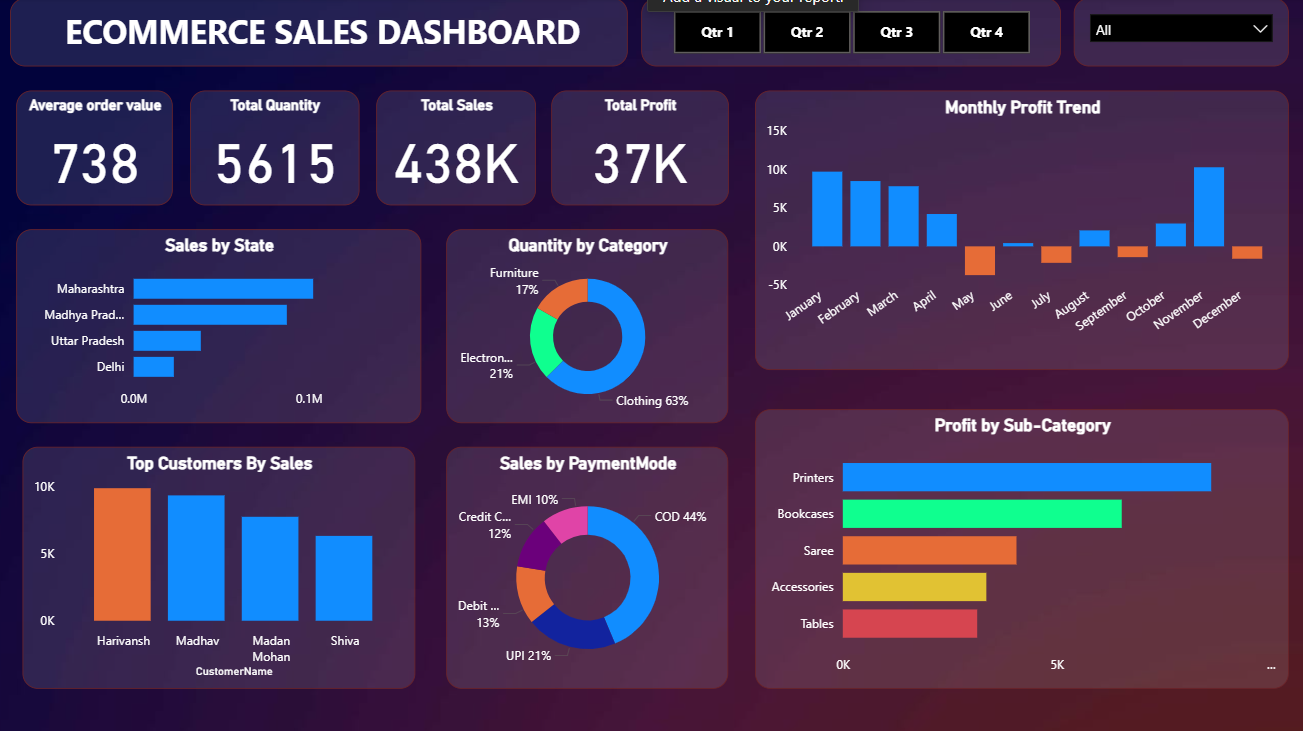

The dashboard page shown, as its layout file describes it:
{"tool":"powerbi","page":{"name":"Page 1","canvas":[1280,720],"ordinal":0},"visuals":[{"type":"textbox","box":[9.6,0,606.5,67.2],"z":0},{"type":"clusteredColumnChart","title":"Monthly Profit Trend","fields":{"Category":["Orders.Order Date.Variation.Date Hierarchy.Month"],"Y":["Sum(Details.Profit)"]},"box":[741,90.6,524.2,274.4],"z":1000},{"type":"barChart","title":" Profit by Sub-Category","fields":{"Category":["Details.Sub-Category"],"Y":["Sum(Details.Profit)"]},"box":[741,403.4,524.2,274.4],"z":2000},{"type":"donutChart","title":"Quantity by Category","fields":{"Category":["Details.Category"],"Y":["Sum(Details.Quantity)"]},"box":[437.7,226.4,277.2,190.7],"z":3000},{"type":"donutChart","title":"Sales  by PaymentMode","fields":{"Category":["Details.PaymentMode","Details.Category"],"Y":["Sum(Details.Quantity)"]},"box":[437.7,440.5,277.2,237.4],"z":4000},{"type":"card","title":"Total Sales","fields":{"Values":["Sum(Details.Amount)"]},"box":[369.3,90.8,157.1,112.9],"z":5000},{"type":"card","title":"Average order value","fields":{"Values":["Sum(Details.AOV)"]},"box":[16.5,90.6,153.7,112.5],"z":6000},{"type":"card","title":"Total Profit","fields":{"Values":["Sum(Details.Profit)"]},"box":[540.7,90.6,174.3,112.5],"z":7000},{"type":"card","title":"Total Quantity","fields":{"Values":["Sum(Details.Quantity)"]},"box":[186.6,90.6,166,112.5],"z":8000},{"type":"barChart","title":"Sales by State","fields":{"Category":["Orders.State"],"Y":["Sum(Details.Amount)"]},"box":[16.5,226.4,397.9,190.7],"z":9000},{"type":"columnChart","title":"Top Customers By Sales","fields":{"Category":["Orders.CustomerName"],"Y":["Sum(Details.Amount)"]},"box":[22,440.5,385.6,237.4],"z":10000},{"type":"slicer","fields":{"Values":["Orders.Order Date.Variation.Date Hierarchy.Quarter"]},"box":[629.8,0,411.7,67.2],"z":11000},{"type":"slicer","fields":{"Values":["Orders.State"]},"box":[1053.9,0,211.3,67.2],"z":11001}]}

Visuals, with their boxes on the page's 1280x720 design canvas (x1, y1, x2, y2). These are canvas units, not pixel positions in the 1303x731 screenshot, which may show the page scaled, cropped or inside an application window:
textbox: (left=10, top=0, right=616, bottom=67)
"Monthly Profit Trend" clusteredColumnChart: (left=741, top=91, right=1265, bottom=365)
" Profit by Sub-Category" barChart: (left=741, top=403, right=1265, bottom=678)
"Quantity by Category" donutChart: (left=438, top=226, right=715, bottom=417)
"Sales  by PaymentMode" donutChart: (left=438, top=440, right=715, bottom=678)
"Total Sales" card: (left=369, top=91, right=526, bottom=204)
"Average order value" card: (left=16, top=91, right=170, bottom=203)
"Total Profit" card: (left=541, top=91, right=715, bottom=203)
"Total Quantity" card: (left=187, top=91, right=353, bottom=203)
"Sales by State" barChart: (left=16, top=226, right=414, bottom=417)
"Top Customers By Sales" columnChart: (left=22, top=440, right=408, bottom=678)
slicer - Orders.Order Date.Variation.Date Hierarchy.Quarter: (left=630, top=0, right=1042, bottom=67)
slicer - Orders.State: (left=1054, top=0, right=1265, bottom=67)
